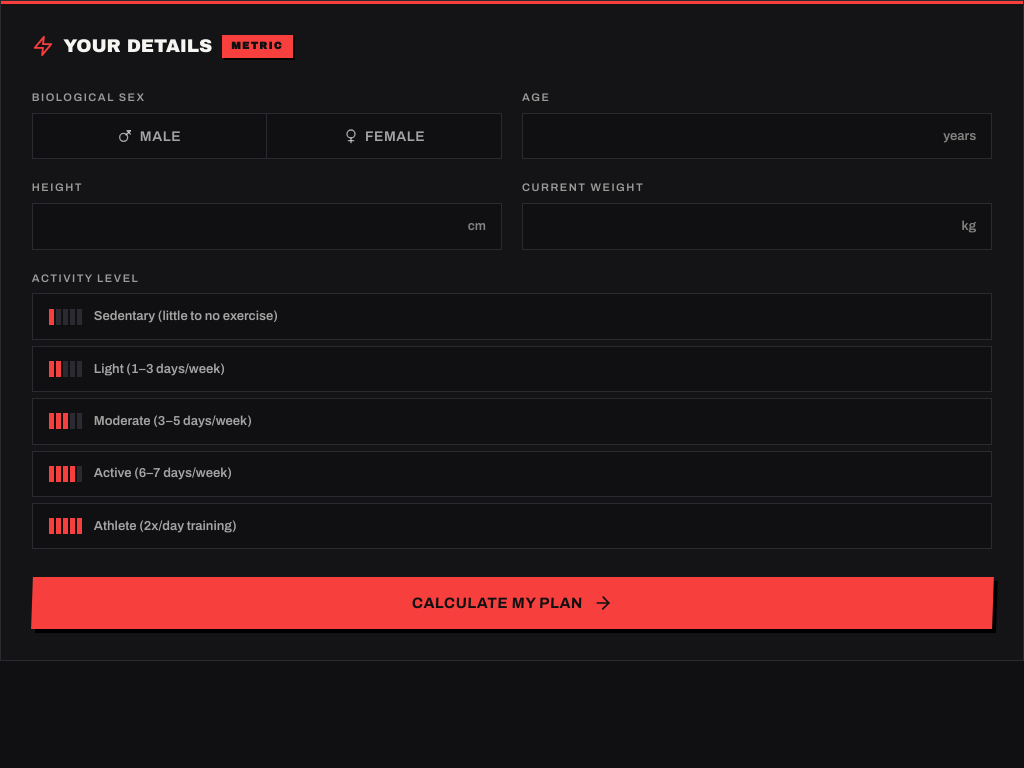
Test: UserForm › validation › does not validate target weight when showAdvanced is false
Step 1. Click the button "Calculate My Plan" → (512, 603), box [31,577,993,629]
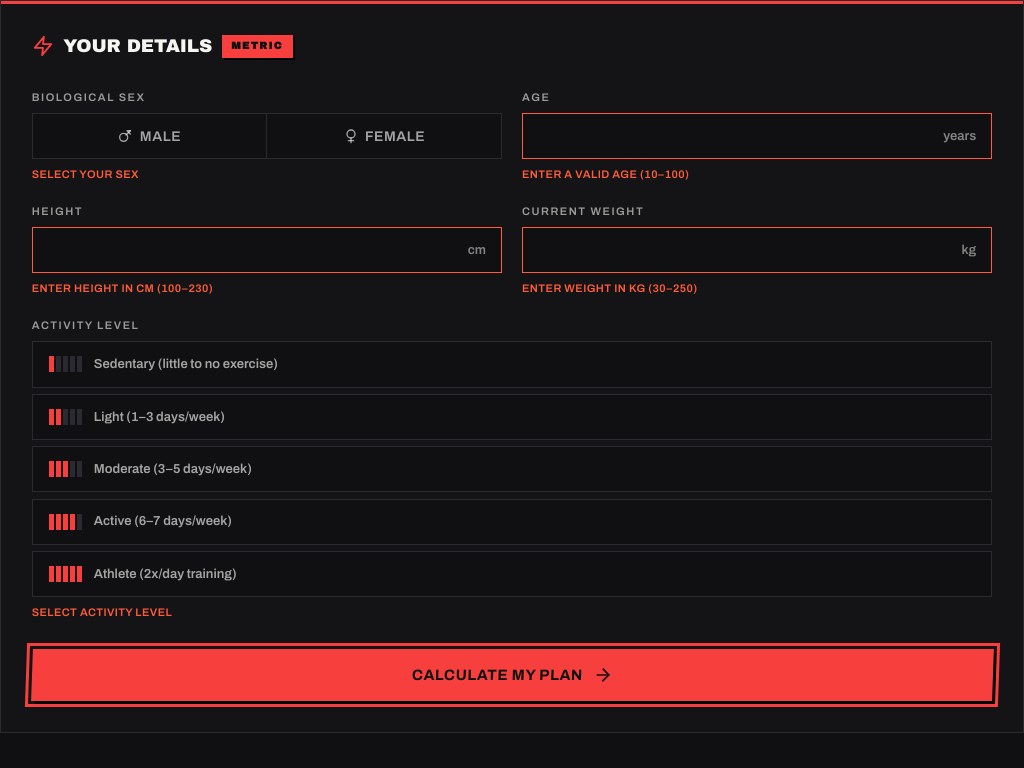
Expected: the text "Select your sex" is shown, [32,168,139,180]
